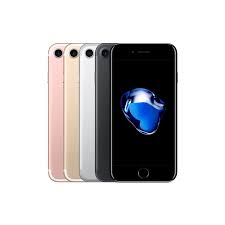iphone: (110, 40, 178, 183)
iphone7: (109, 40, 177, 183)
